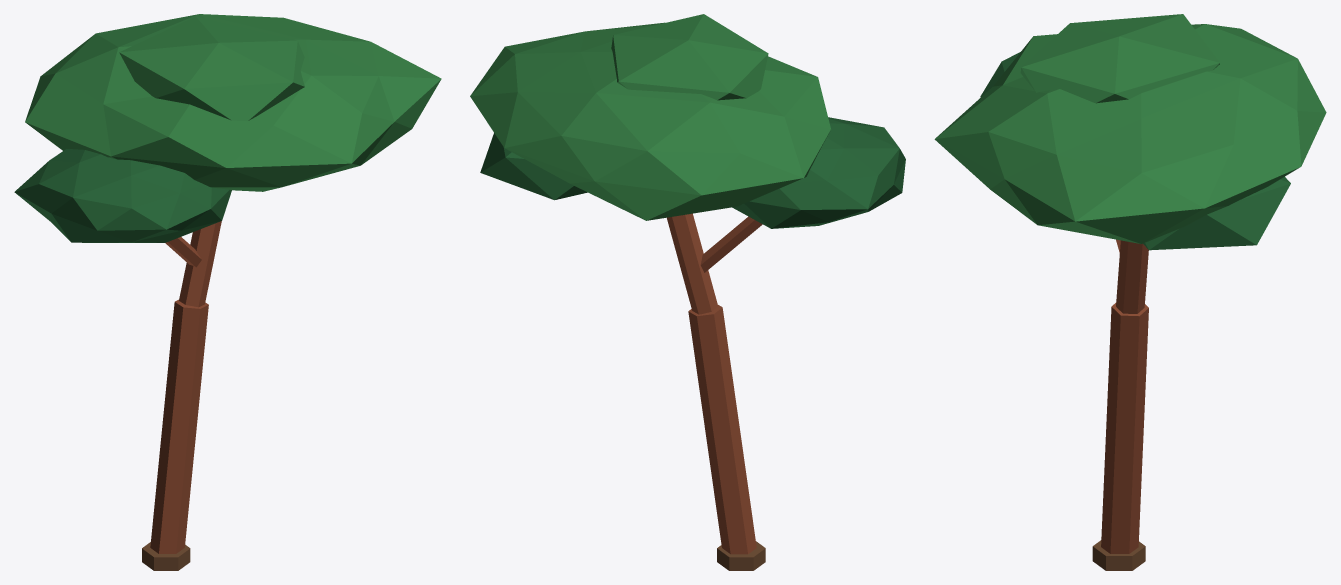
The model's file is tree_pine.glb.
3 renders of one model, left to right at view 1: azimuth 30°, elevation 25°; view 2: azimuth 150°, elevation 25°; view 3: azimuth 270°, elevation 25°, orthographic. The views are drawn at different scales.
Parts seen in each view (by area): view 1: tree_pine; view 2: tree_pine; view 3: tree_pine.
Part boxes in pixels (x1,y1,x2,y2): tree_pine: (14,14,441,570); tree_pine: (470,14,905,570); tree_pine: (934,14,1326,570).
Bounding box in the file's own units: 4.5 × 5.54 × 3.55.
